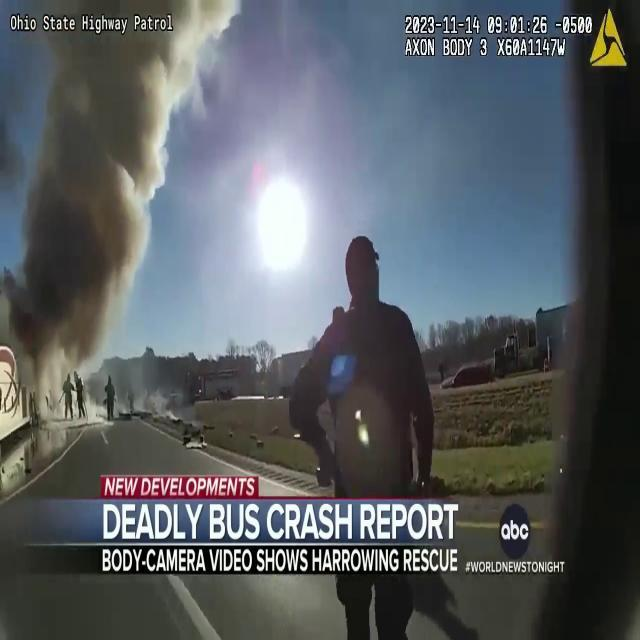Smoke: (0, 0, 218, 362)
